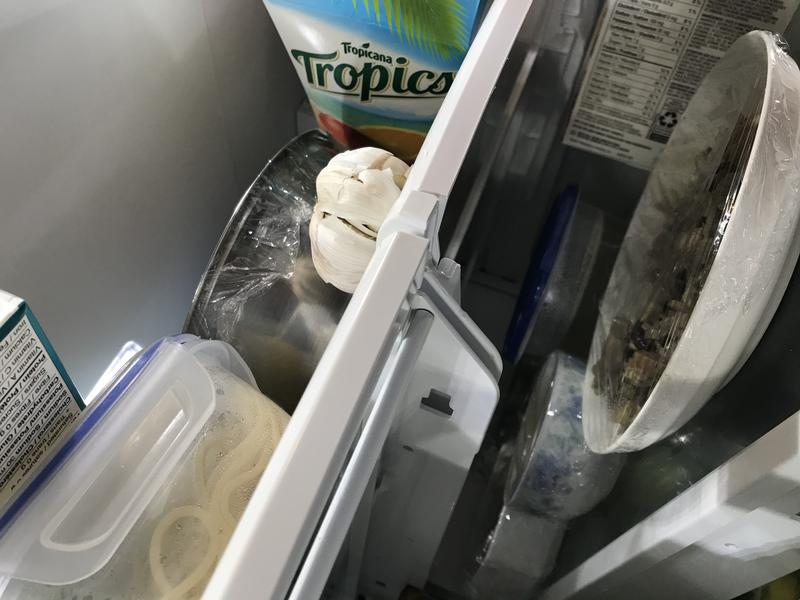garlic: (300, 138, 430, 306)
